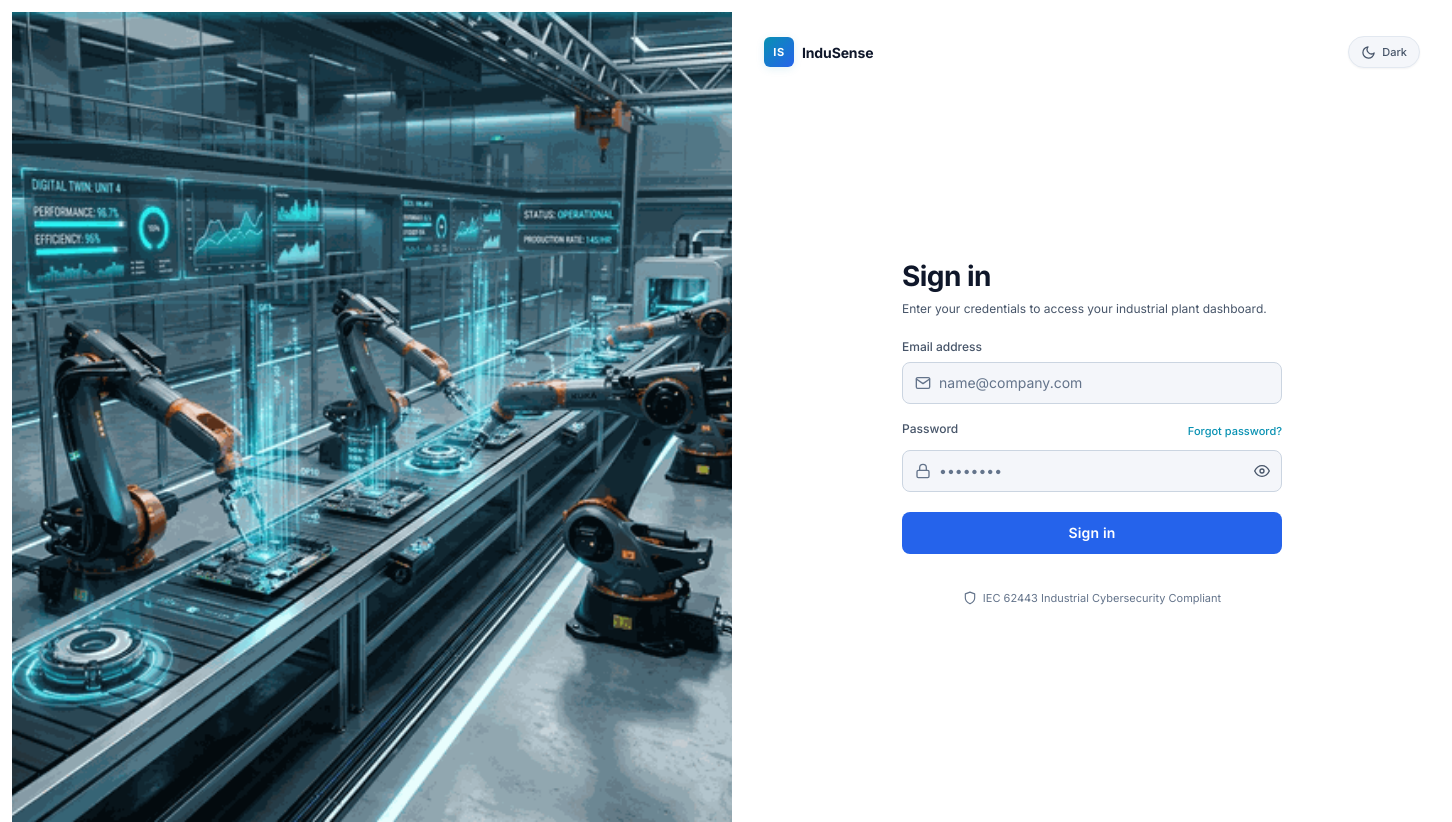
it: LoginPageComponent › shows the credentials error and clears the password
In the field with id "login-email": point(1106, 382) [931,362,1281,402], type "admin@indusense.com"
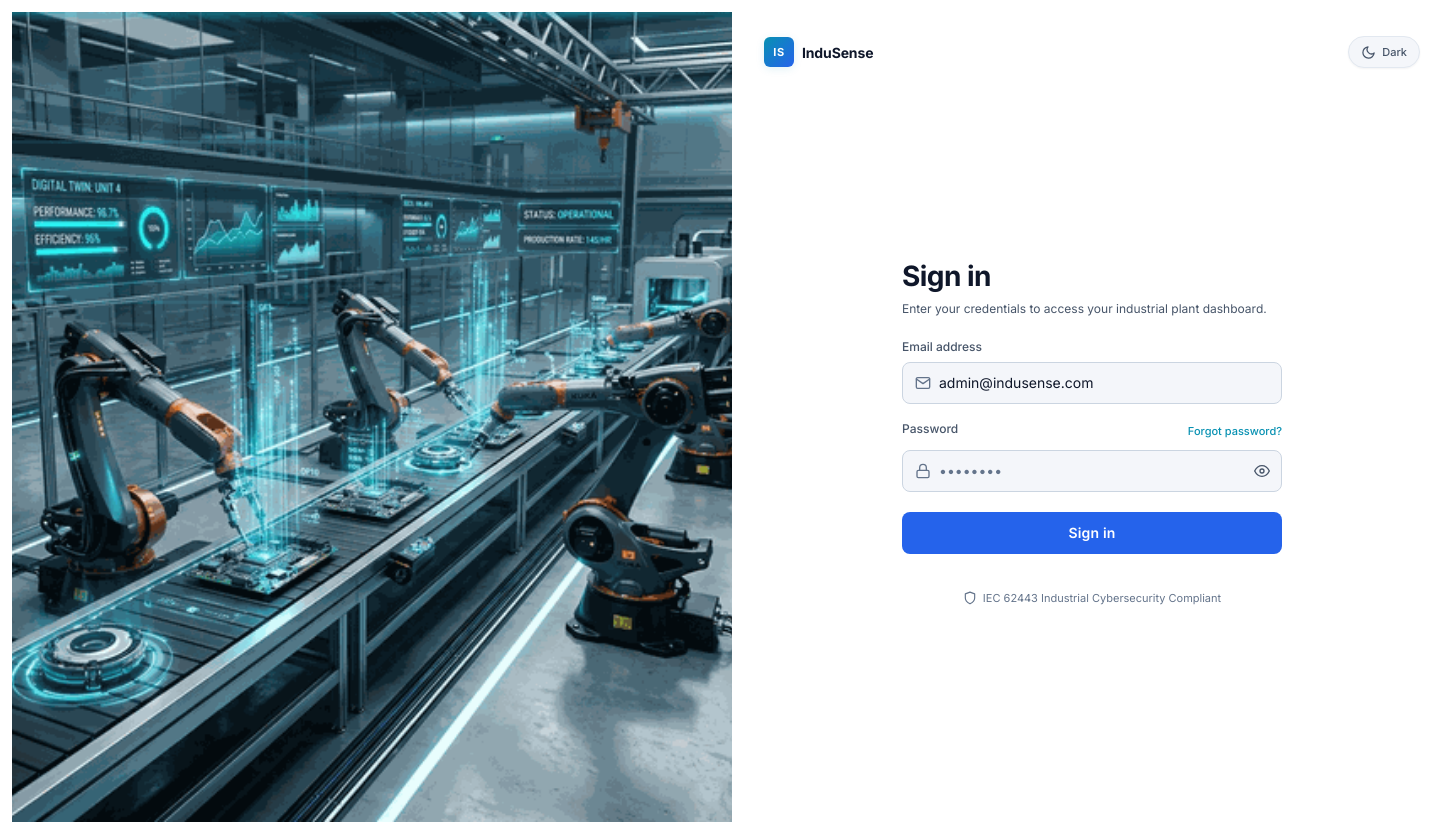
In the password field with id "login-password": point(1087, 470) [931,450,1243,490], type "wrong-password"
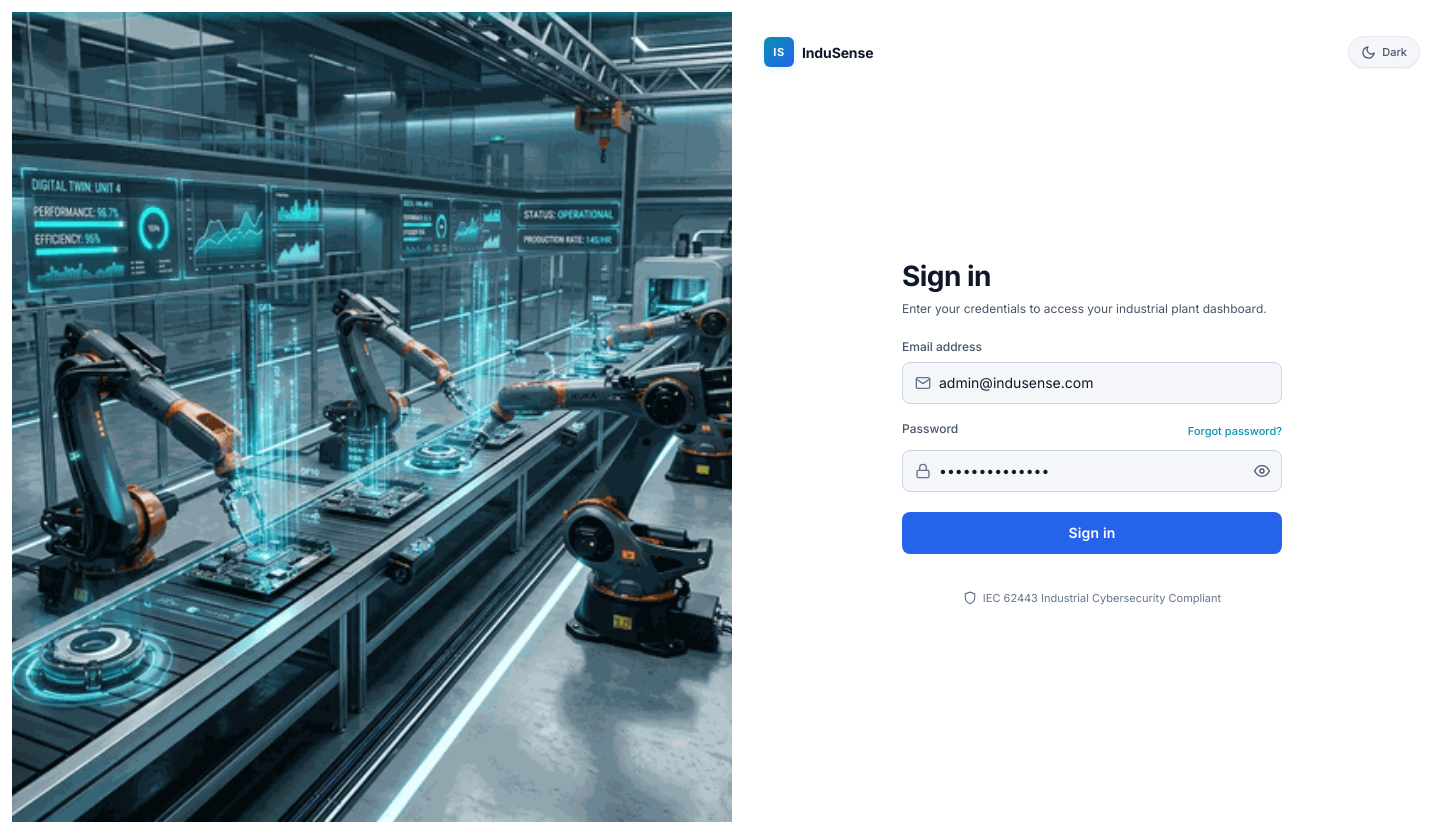
Click the submit button: point(1092, 532) [902,512,1282,554]
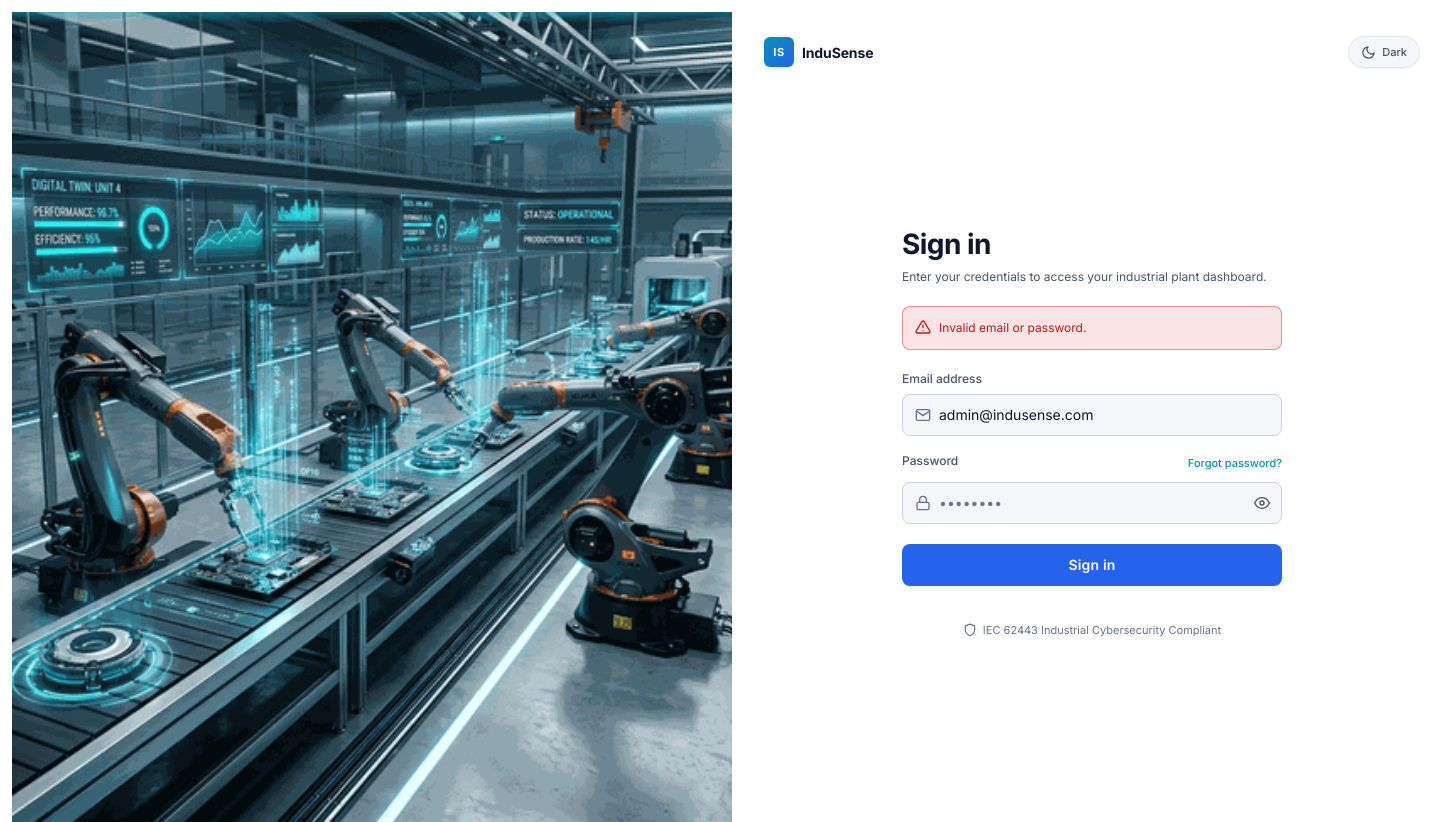
Check: the text "Invalid email or password." is shown, box [939,318,1086,336]
Check: the password field with id "login-password" is empty, box [931,482,1243,522]
